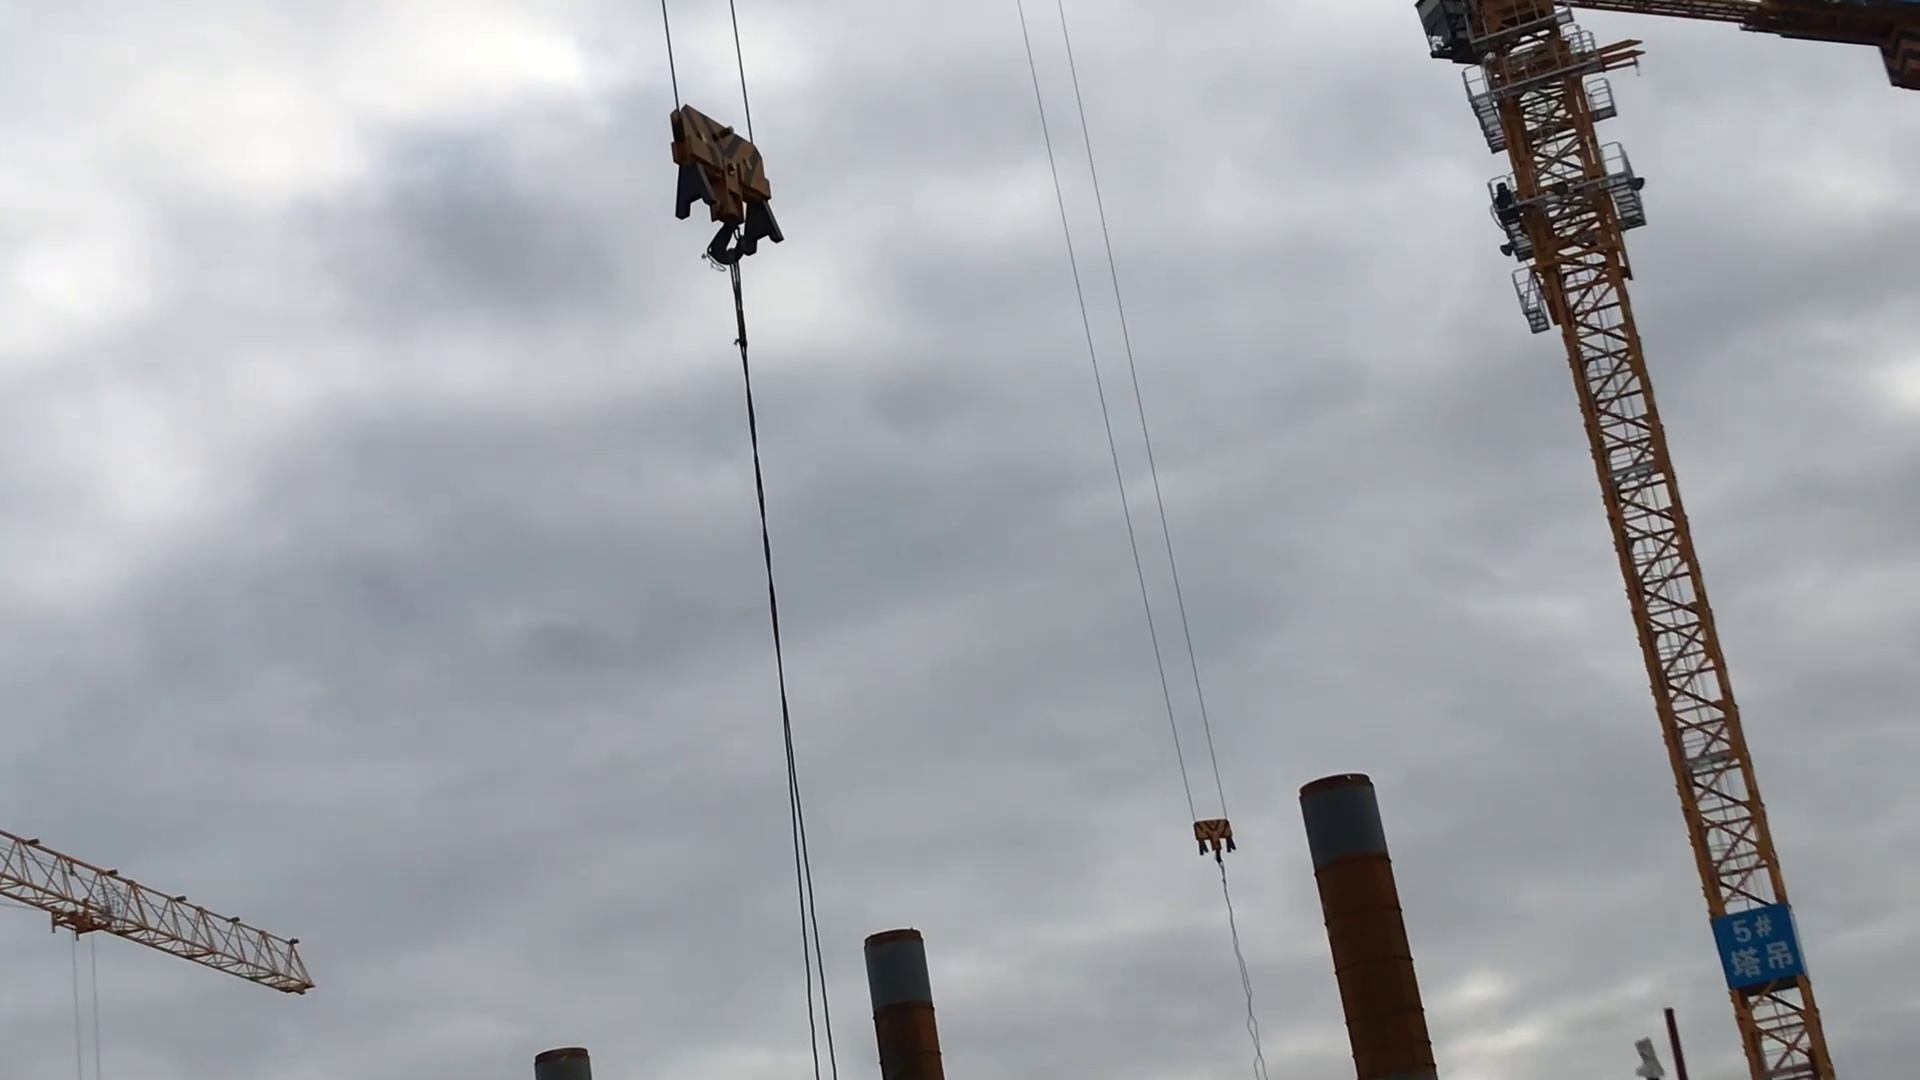hook: (641, 90, 793, 276), (1179, 808, 1253, 874)
